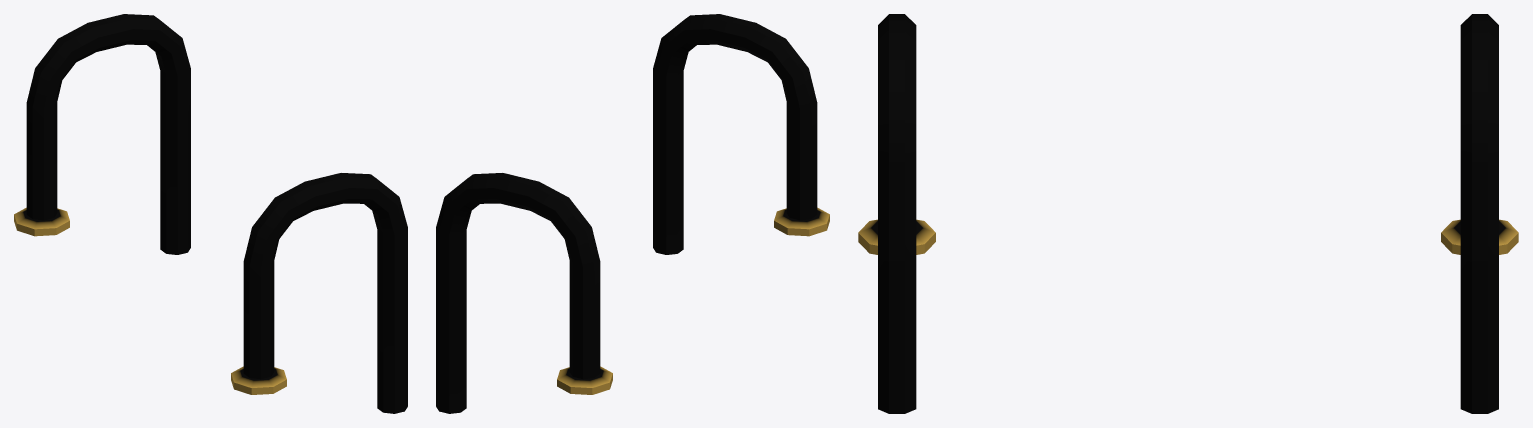
Rendered from pool_ladder.glb.
3 renders of one model, left to right at view 1: azimuth 30°, elevation 25°; view 2: azimuth 150°, elevation 25°; view 3: azimuth 270°, elevation 25°, orthographic. The views are drawn at different scales.
Parts seen in each view (by area): view 1: brass; view 2: brass; view 3: brass.
Boxes of the visible parts, bbox=[...] form: brass: bbox=[14, 14, 407, 413]; brass: bbox=[436, 14, 829, 413]; brass: bbox=[858, 14, 1518, 413].
Bounding box in the file's own units: 0.2048 × 0.2797 × 0.51.
